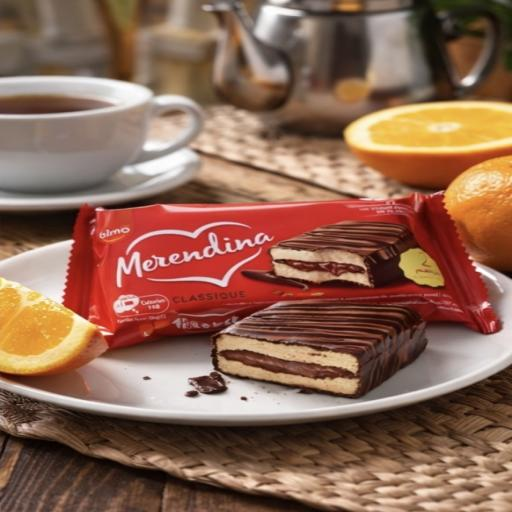merendina: (48, 166, 493, 340)
